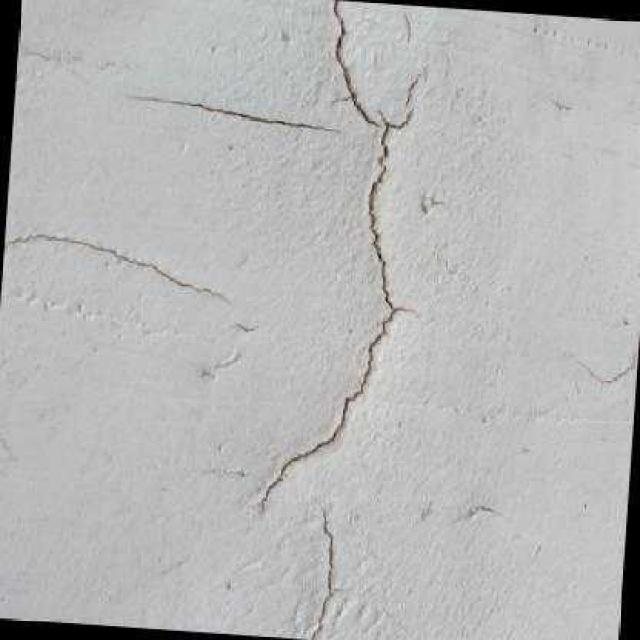D00: (259, 0, 411, 506), (4, 230, 221, 308), (143, 80, 322, 141), (305, 525, 335, 640)
